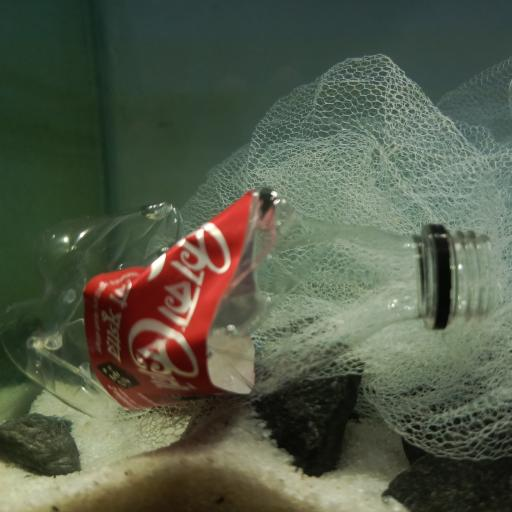net: (159, 49, 512, 459)
plastic_bottle: (1, 186, 494, 422)
